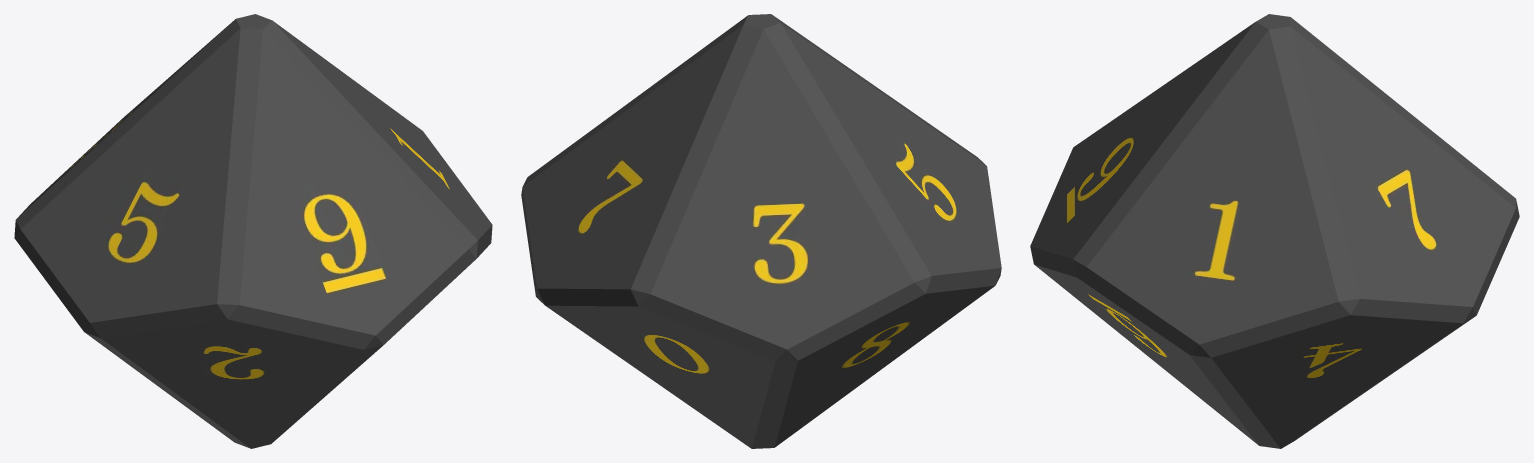
File: D10Gilded.glb
The picture shows the model from 3 angles, left to right: view 1: azimuth 30°, elevation 25°; view 2: azimuth 150°, elevation 25°; view 3: azimuth 270°, elevation 25°; orthographic projection.
Parts seen in each view (by area): view 1: D10Gilded; view 2: D10Gilded; view 3: D10Gilded.
Part boxes in pixels (x1=…): D10Gilded: x1=14, y1=14, x2=492, y2=448; D10Gilded: x1=521, y1=14, x2=1001, y2=448; D10Gilded: x1=1030, y1=14, x2=1519, y2=448.
Bounding box in the file's own units: 2.95 × 2.93 × 3.1.
1 material, 1 textured.
